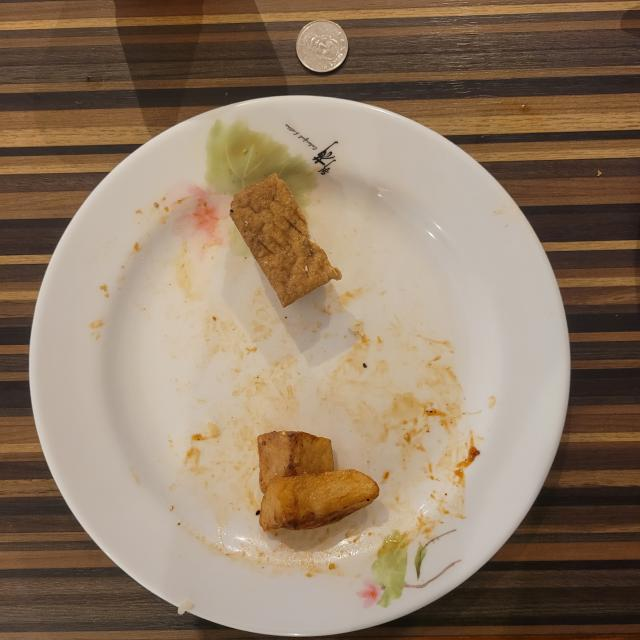coin: (296, 20, 348, 72)
egg tofu: (230, 174, 341, 308)
fried potato: (258, 431, 379, 531)
